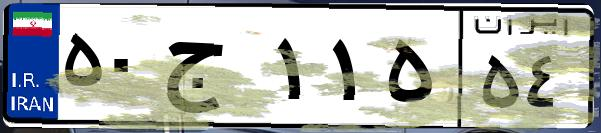0: (110, 28, 158, 98)
1: (270, 28, 330, 110), (330, 28, 385, 110)
4: (525, 38, 570, 115)
5: (385, 28, 445, 110), (57, 26, 110, 100), (475, 38, 525, 113)
ج: (158, 20, 270, 120)
